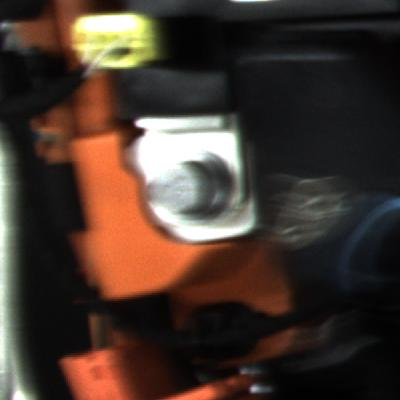nut_b: (150, 152, 251, 222)
